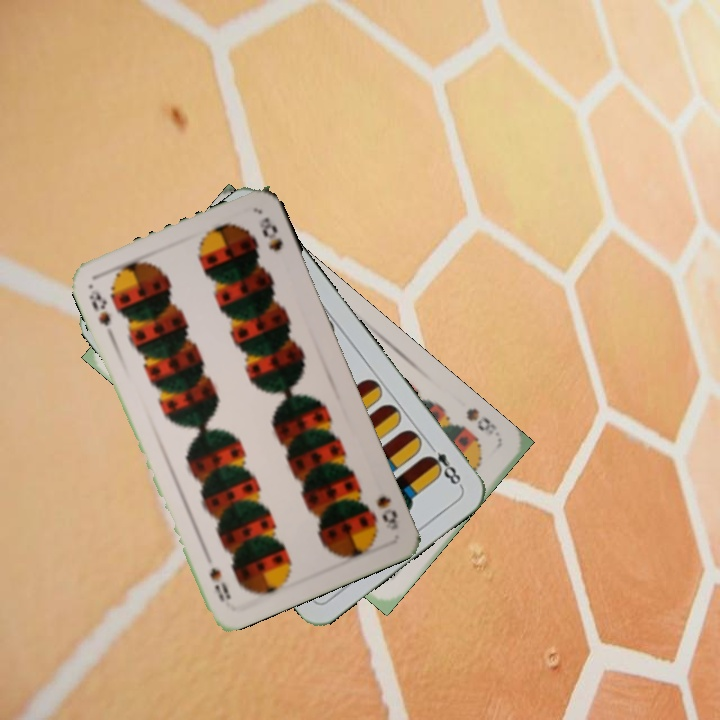E8: (422, 438, 465, 489)
S8: (462, 403, 500, 438), (85, 285, 113, 329), (372, 492, 401, 533)
